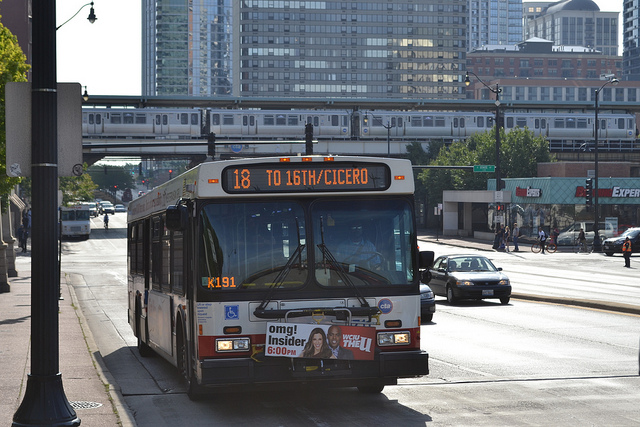Bus: (117, 153, 436, 386)
Car: (438, 253, 519, 310)
